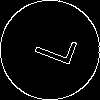L: (25, 25, 78, 68)
